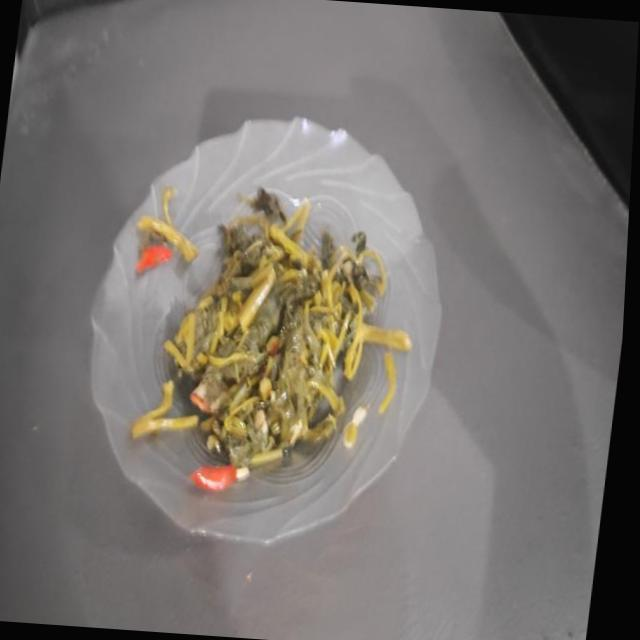tumis_kangkung: (164, 188, 410, 490)
